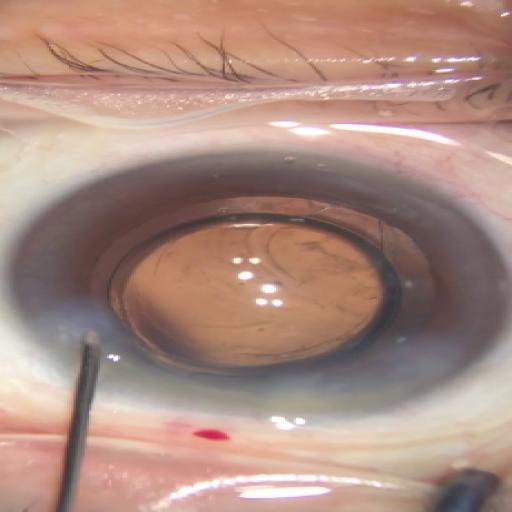cornea: (14, 151, 493, 410)
pupil: (107, 213, 402, 369)
